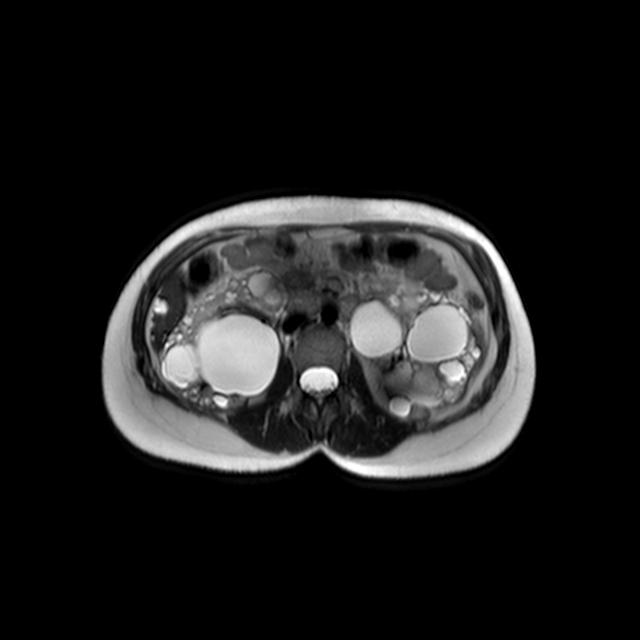sag: (158, 264, 290, 414)
sol: (350, 288, 484, 423)
